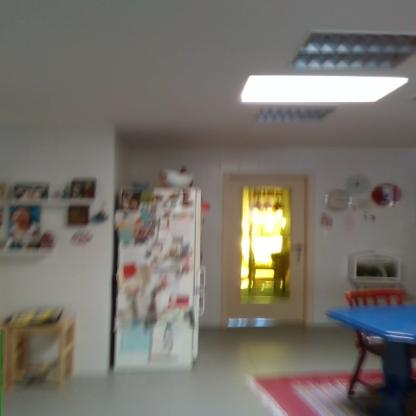closed: (210, 166, 321, 334)
